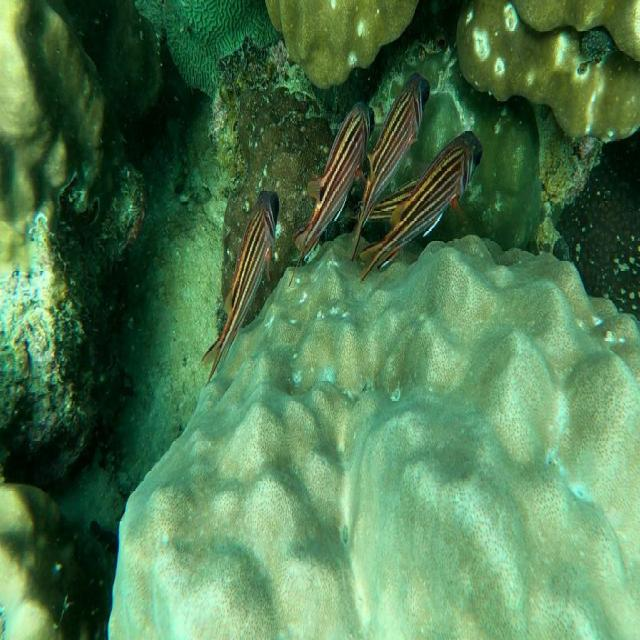Asker Baligi: (359, 115, 498, 302), (195, 170, 287, 390)
